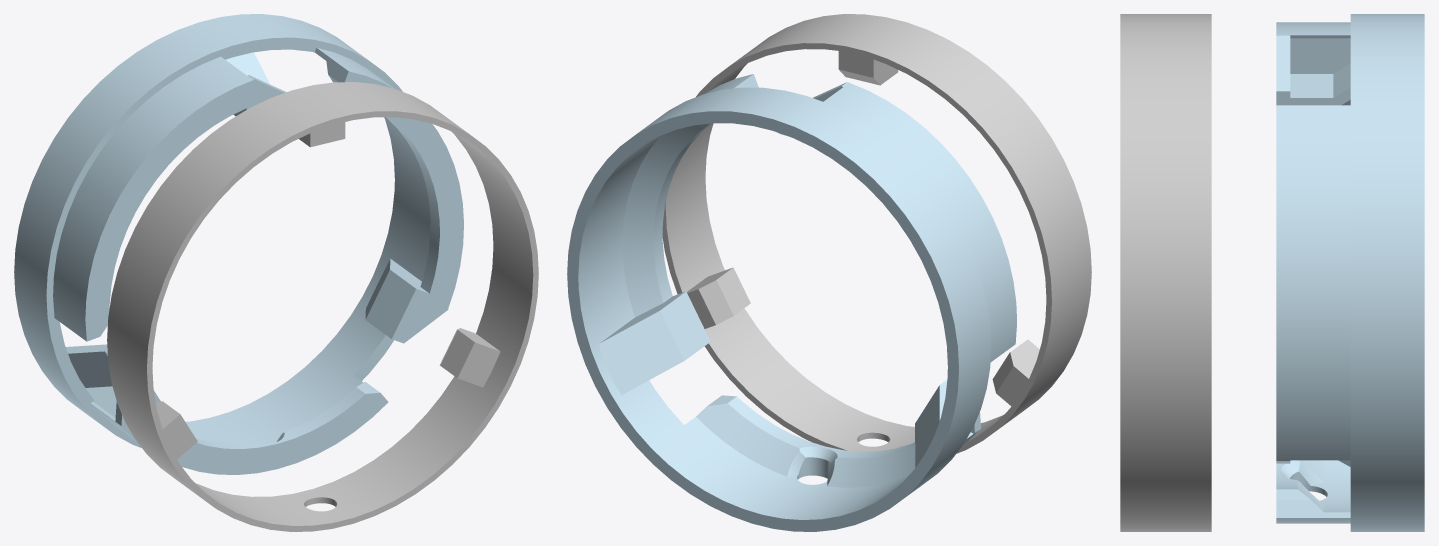
Rendered from Section Connector(1).gltf.
3 views of the same model, side by side, from view 1: azimuth 30°, elevation 25°; view 2: azimuth 150°, elevation 25°; view 3: azimuth 270°, elevation 25° (orthographic). The views are drawn at different scales.
Visible parts, largest first — view 1: Part 1, Part 2; view 2: Part 1, Part 2; view 3: Part 1, Part 2.
Part boxes in pixels (bbox=[...]): Part 1: bbox=[14, 14, 463, 474]; Part 2: bbox=[107, 82, 538, 531]; Part 1: bbox=[567, 74, 1016, 531]; Part 2: bbox=[662, 14, 1091, 453]; Part 1: bbox=[1276, 14, 1424, 531]; Part 2: bbox=[1120, 14, 1211, 531].
Size of the model in its own units: 0.056 by 0.056 by 0.0329.
